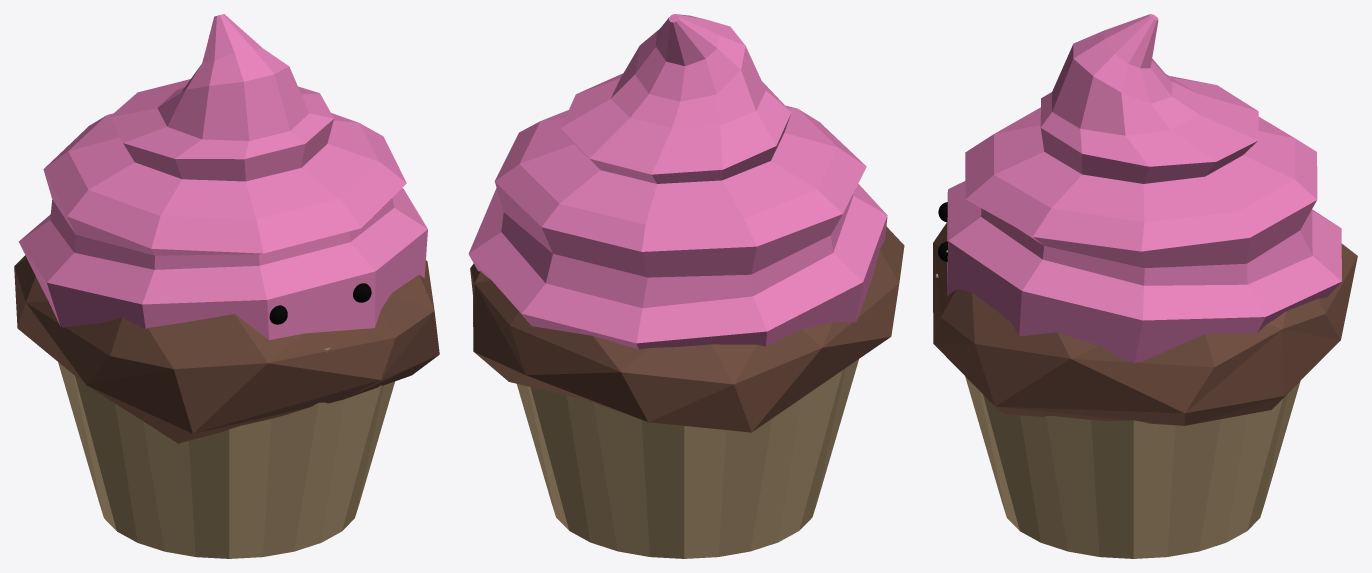
The model's file is CupcakeMonster.fbx.
3 renders of one model, left to right at view 1: azimuth 30°, elevation 25°; view 2: azimuth 150°, elevation 25°; view 3: azimuth 270°, elevation 25°, orthographic. The views are drawn at different scales.
Visible parts, largest first — view 1: Cupcake; view 2: Cupcake; view 3: Cupcake.
Part boxes in pixels (left/top/right/bottom): Cupcake: left=14, top=14, right=439, bottom=558; Cupcake: left=468, top=14, right=904, bottom=558; Cupcake: left=933, top=14, right=1357, bottom=558.
Bounding box in the file's own units: 145 × 186 × 147.
